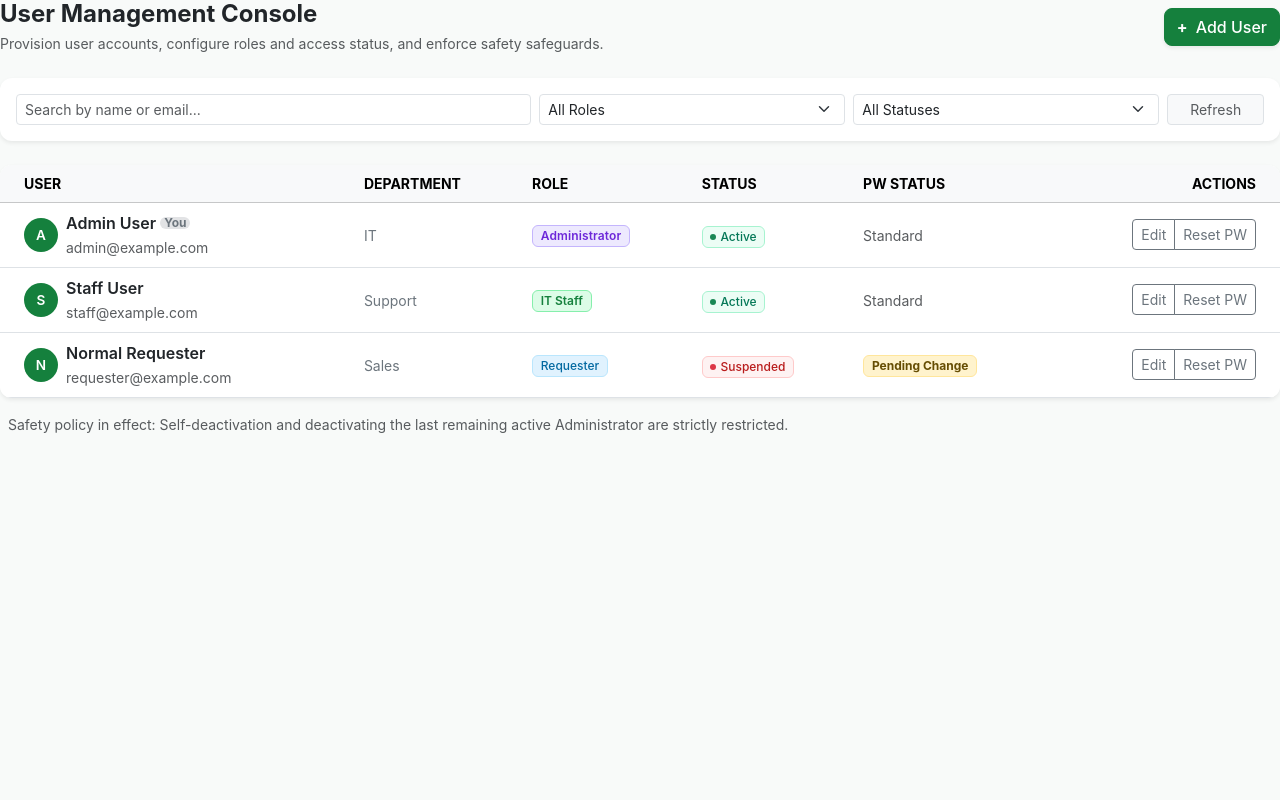
Lab 3 — Administrator User Management Screen (Issue #8 / #45) › User Provisioning (FR-13 / AC-12) › opens Add User modal and submits new user account
Click the button with test id "add-user-btn" at (1222, 27), box [1164, 8, 1279, 46]
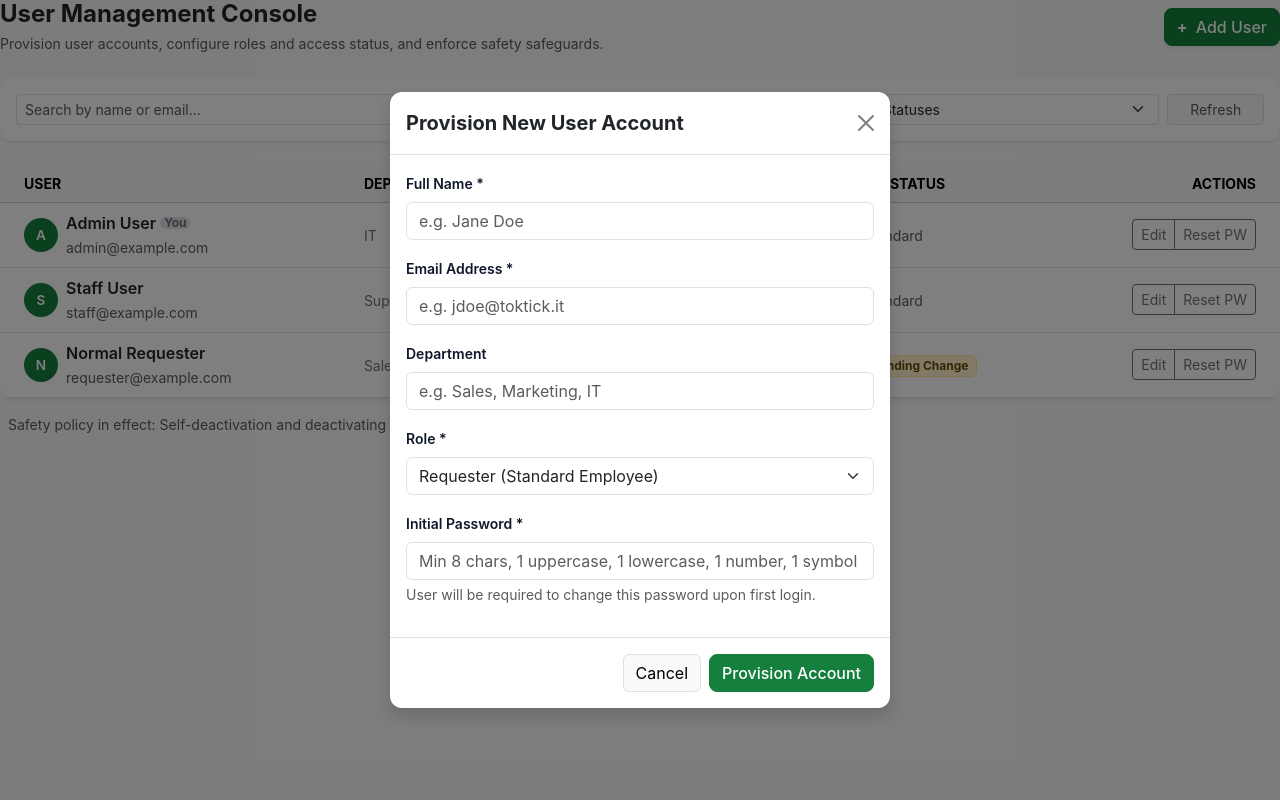
Now the element with test id "create-user-modal" is shown
Type "New Recruit" into the field with test id "create-user-name" at (640, 221), box [406, 202, 874, 240]
Type "recruit@example.com" into the field with test id "create-user-email" at (640, 306), box [406, 287, 874, 325]
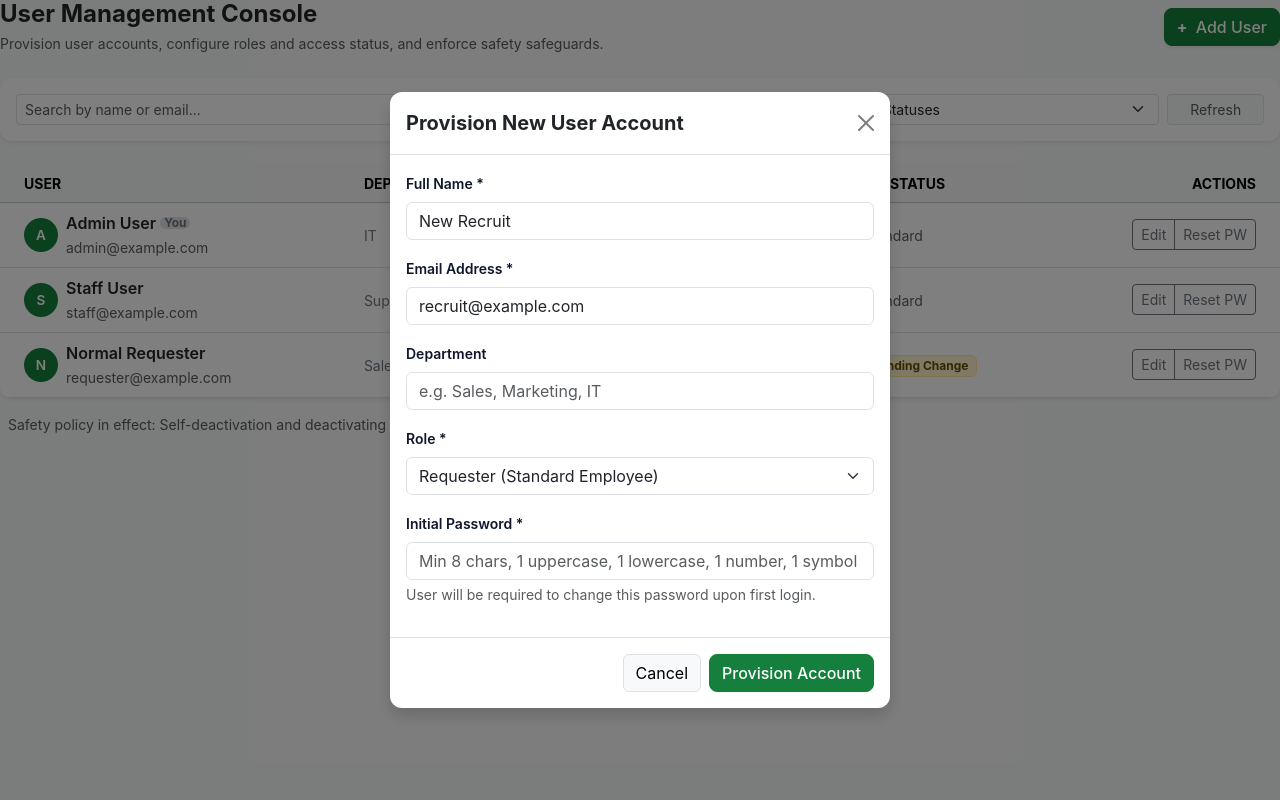
Type "Engineering" into the field with test id "create-user-dept" at (640, 391), box [406, 372, 874, 410]
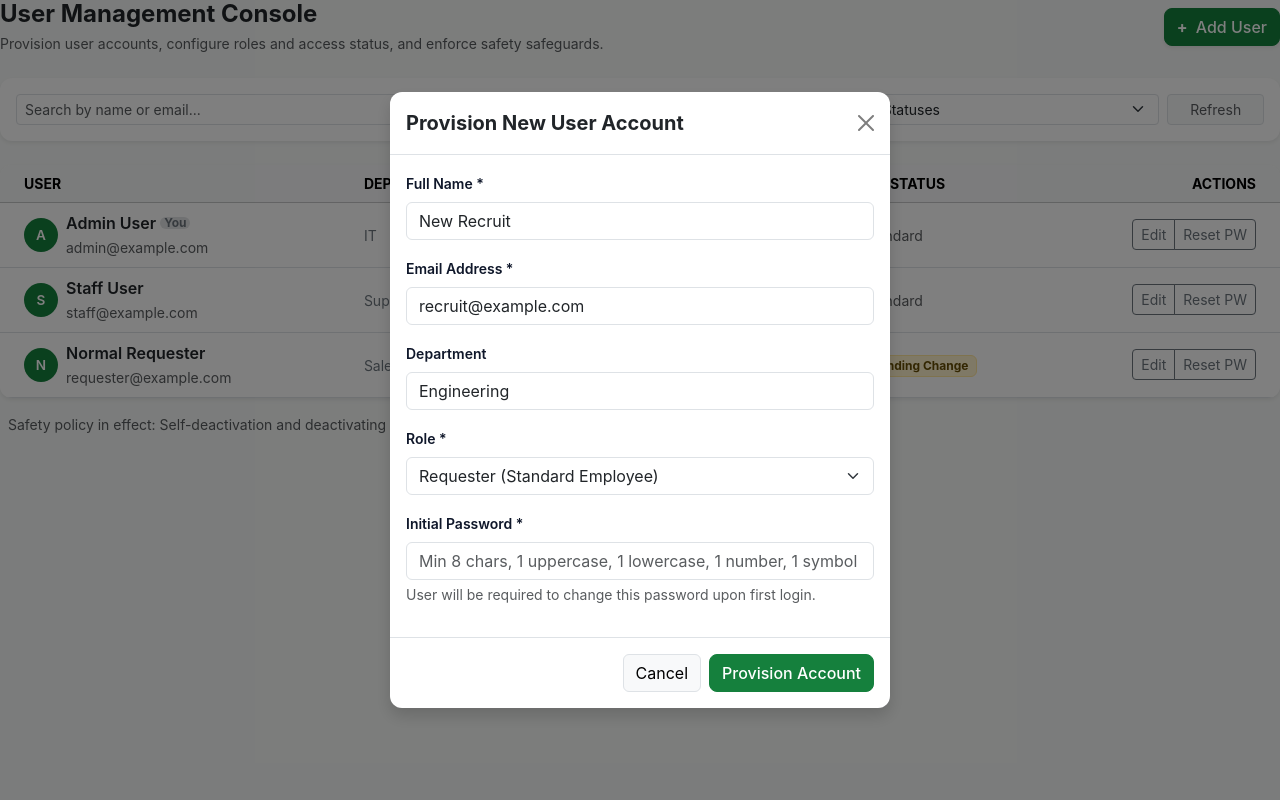
Select "IT Staff (Operational Support)" in the dropdown with test id "create-user-role" at (640, 476), box [406, 457, 874, 495]
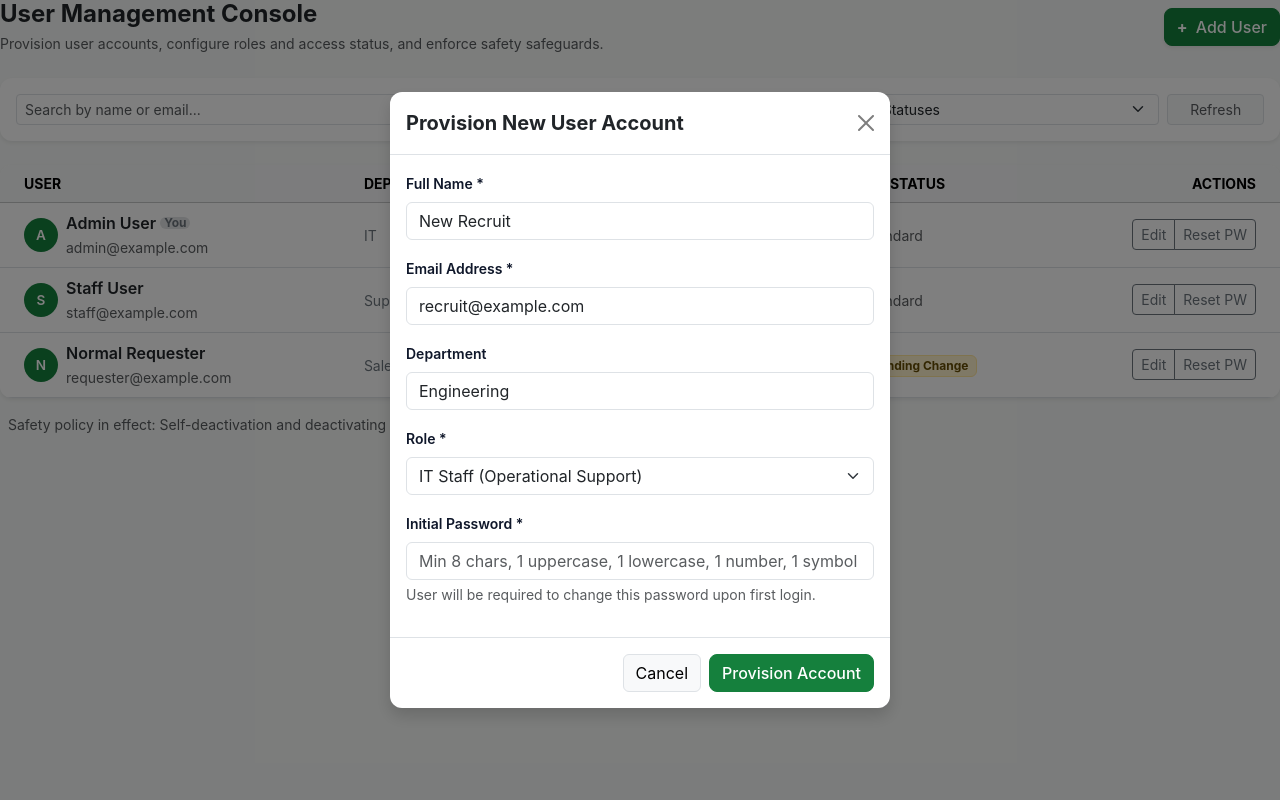
Type "Secret123!" into the password field with test id "create-user-password" at (640, 561), box [406, 542, 874, 580]
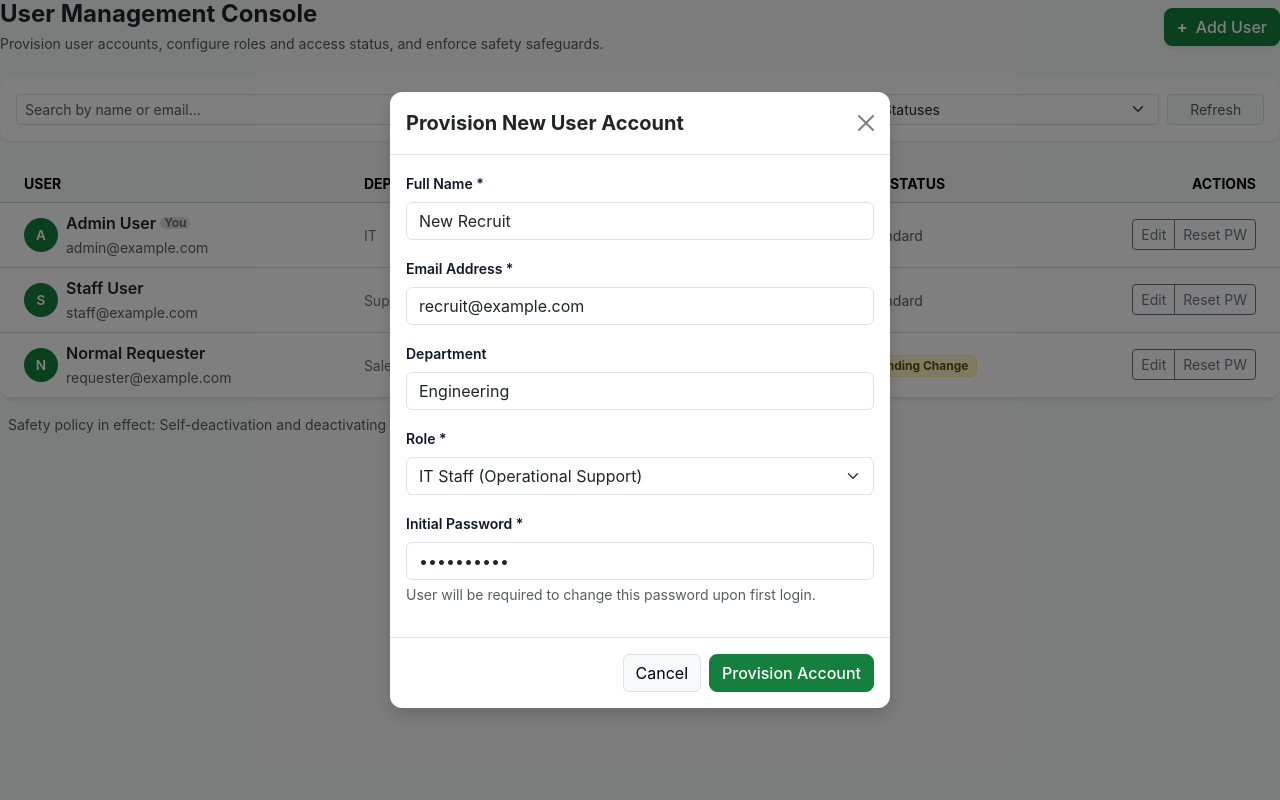
Click the button with test id "submit-create-user-btn" at (792, 673), box [709, 654, 874, 692]
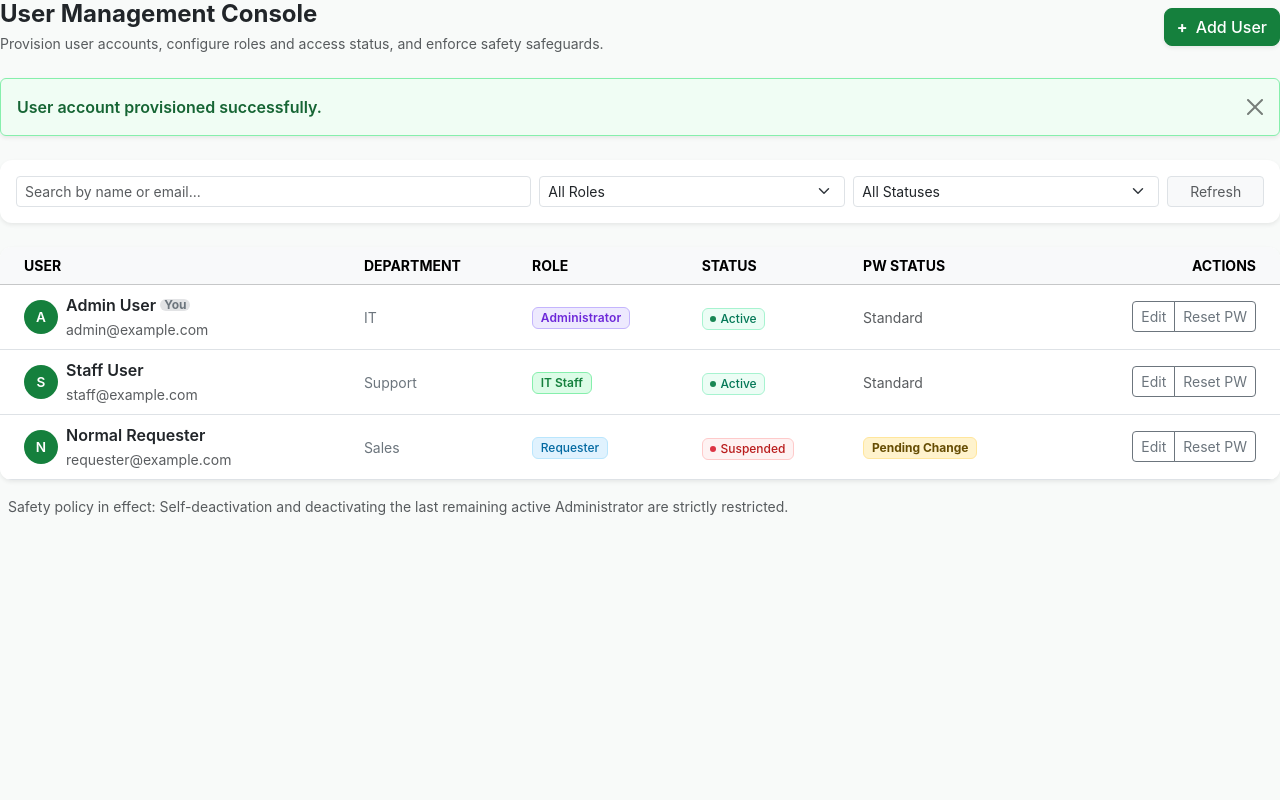
Now the element with test id "create-user-modal" is gone
